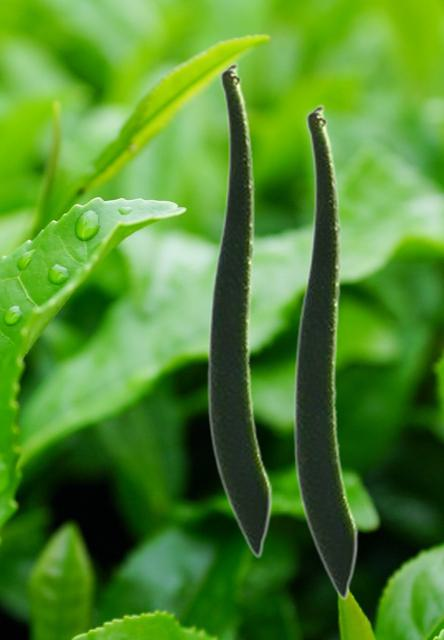french_bean: (292, 103, 358, 600), (206, 61, 272, 558)
